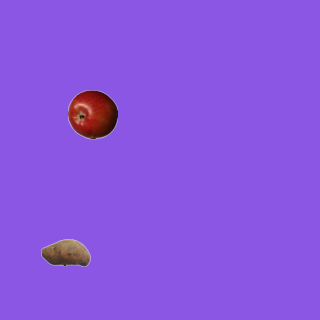Apple Braeburn: (67, 89, 117, 139)
Potato Sweet: (40, 227, 90, 277)
